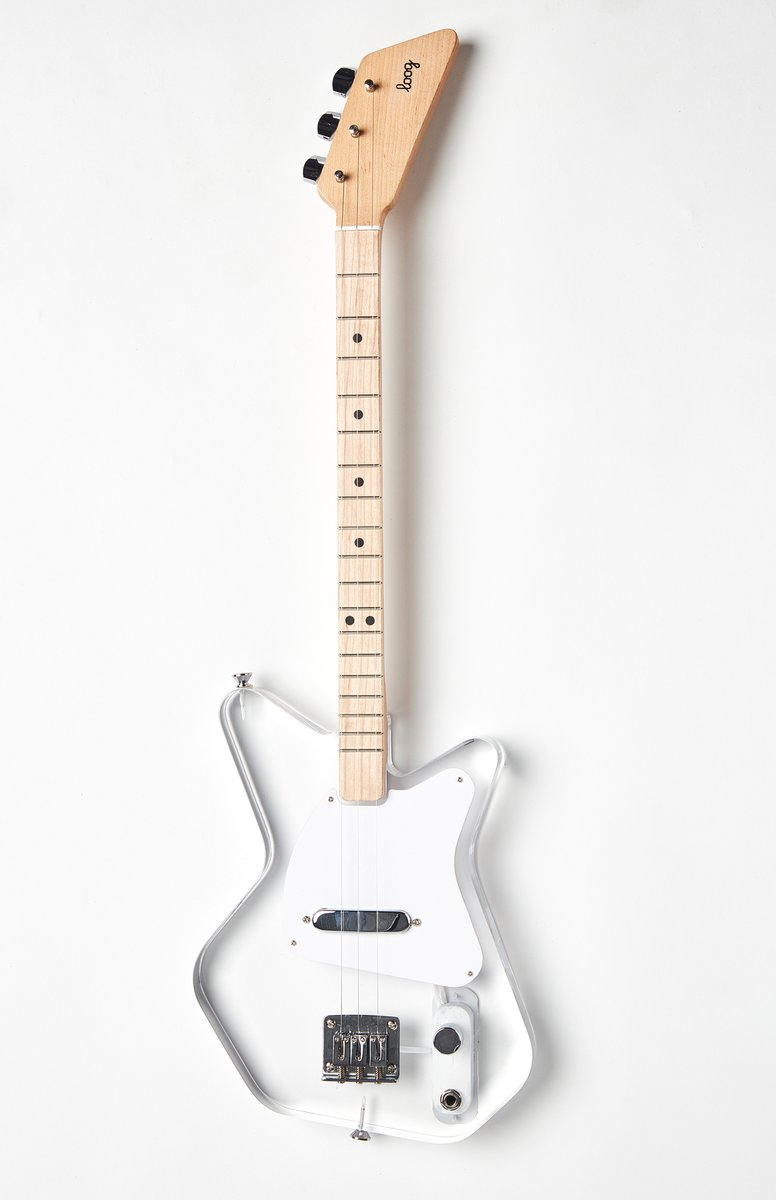ElectricGuitar: (192, 25, 542, 1143)
